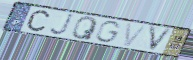C: (26, 9, 51, 33)
G: (94, 20, 123, 44)
J: (49, 13, 75, 37)
Q: (70, 16, 100, 42)
V: (147, 24, 175, 54), (123, 22, 149, 48)
